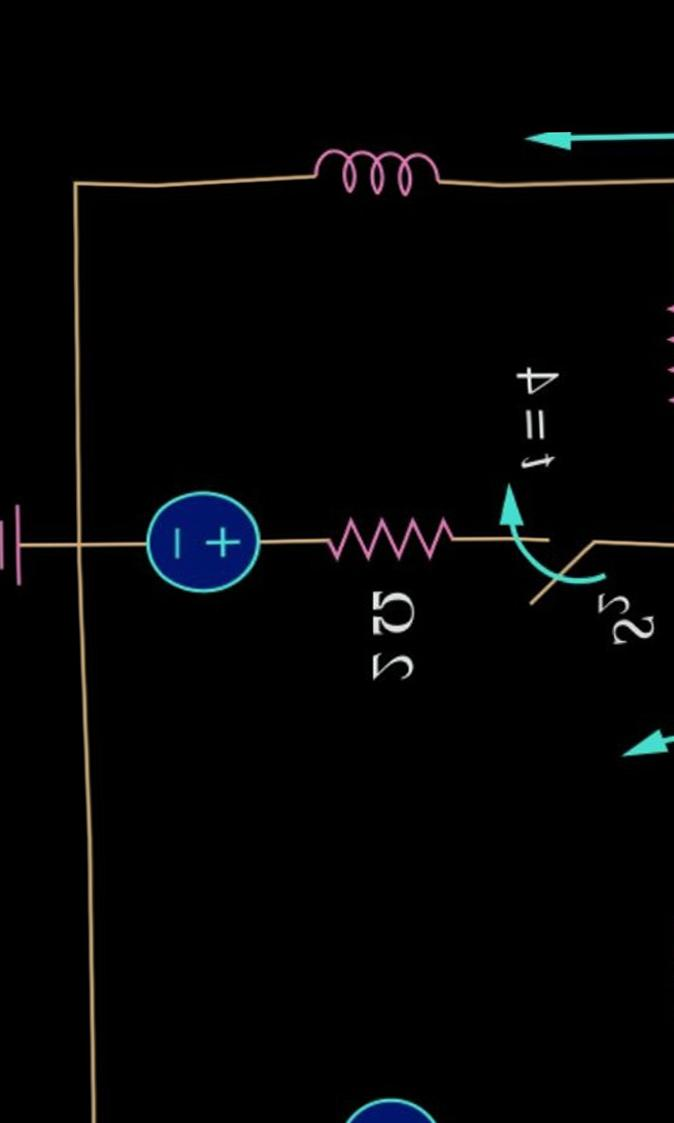Battery: (102, 453, 281, 623)
